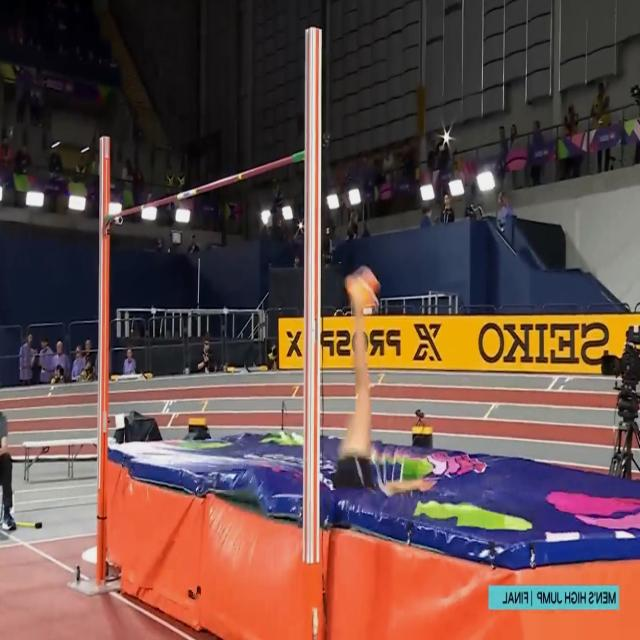land: (334, 269, 440, 491)
